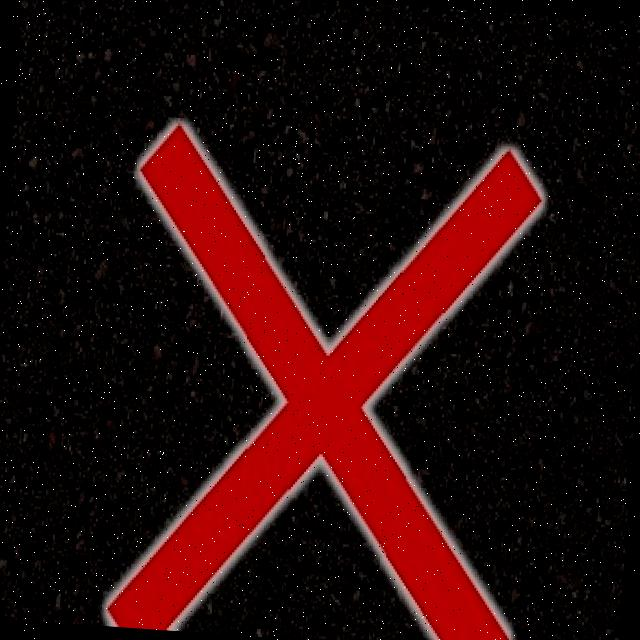x_marker: (105, 121, 543, 640)
